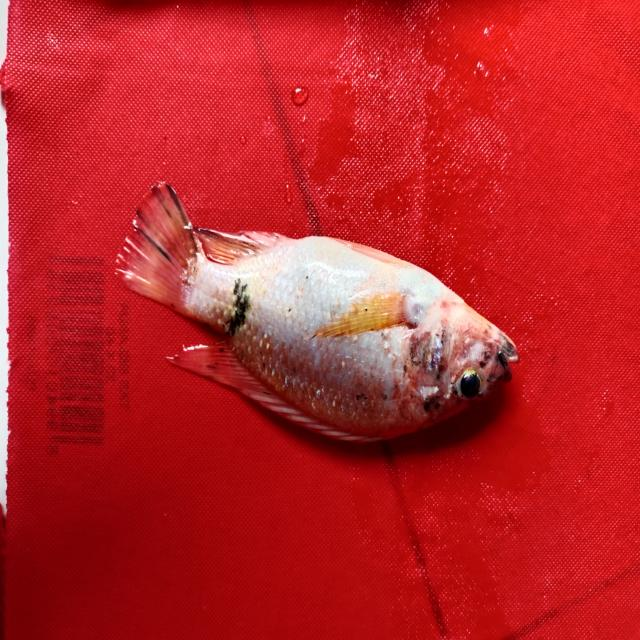ikan: (89, 127, 528, 459)
